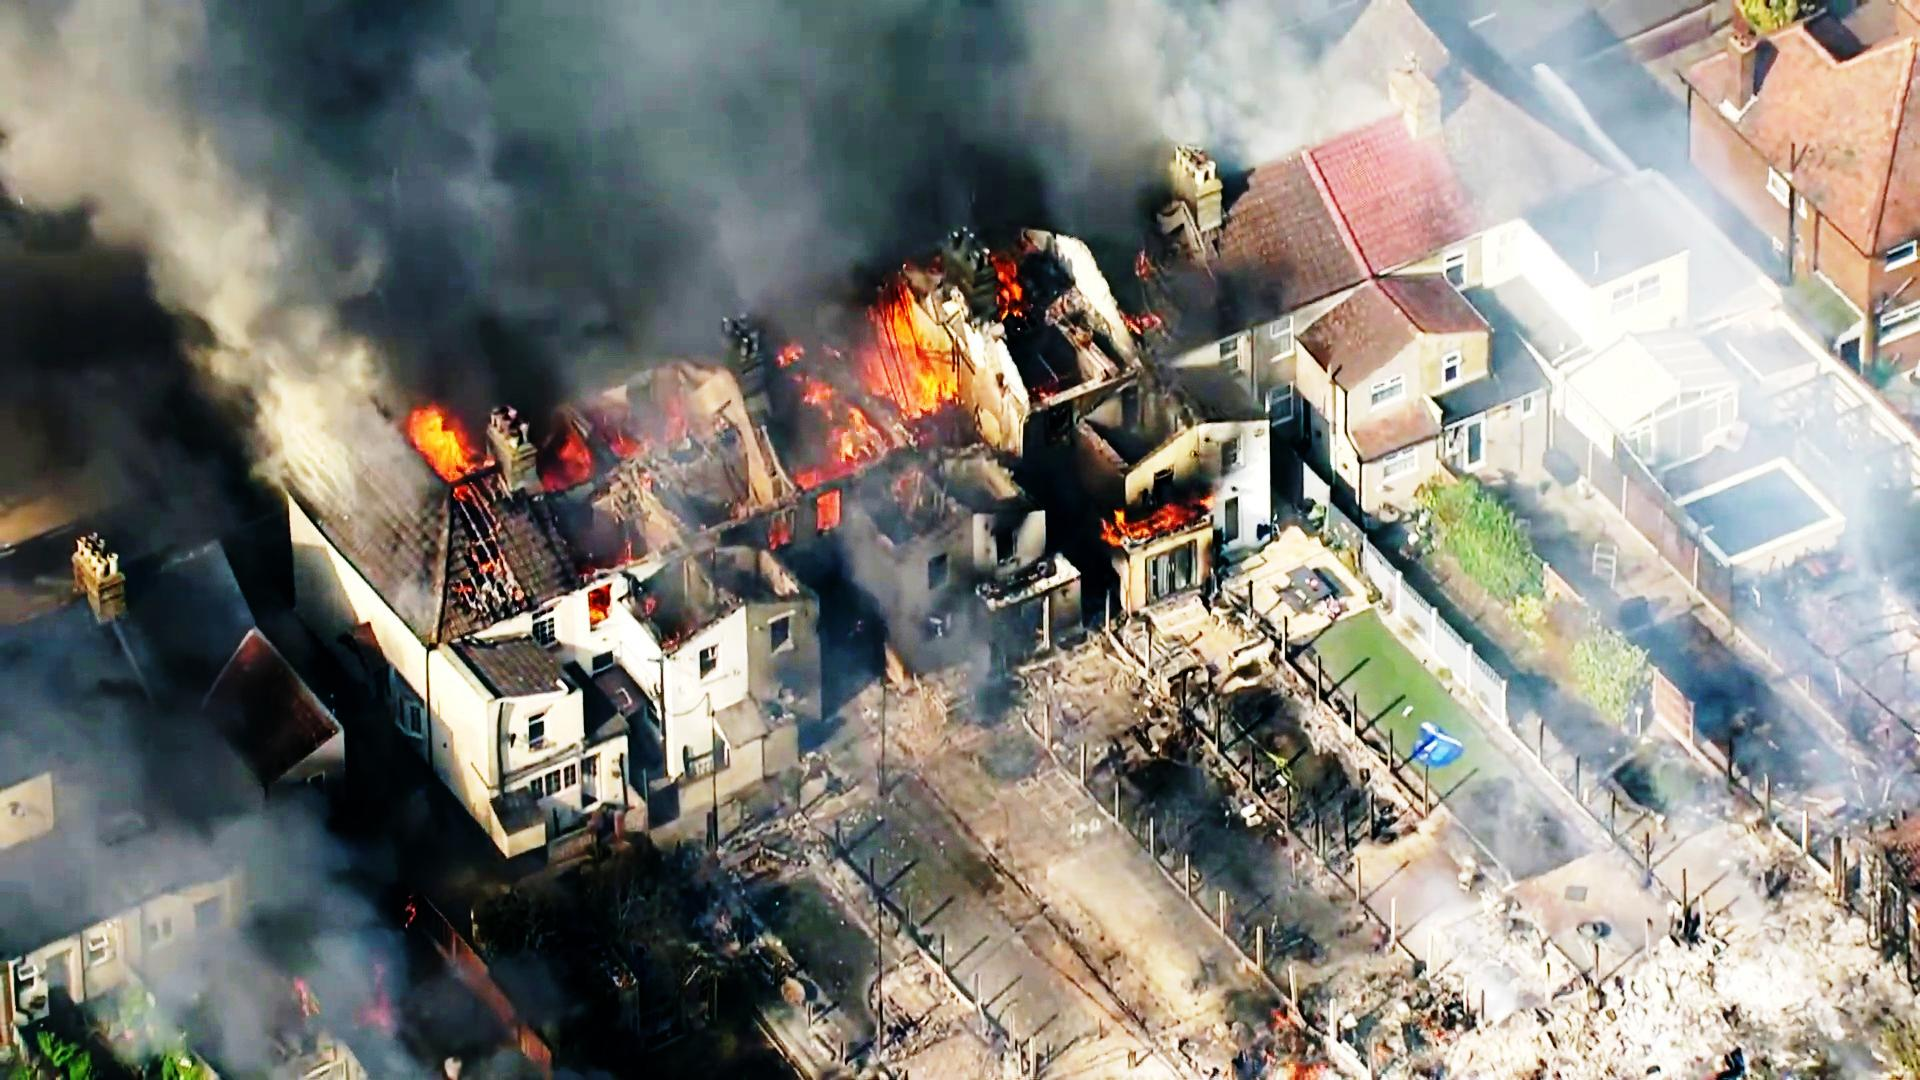fire: (825, 301, 968, 448), (371, 393, 483, 491)
smoke: (0, 0, 493, 371), (425, 0, 923, 262)
